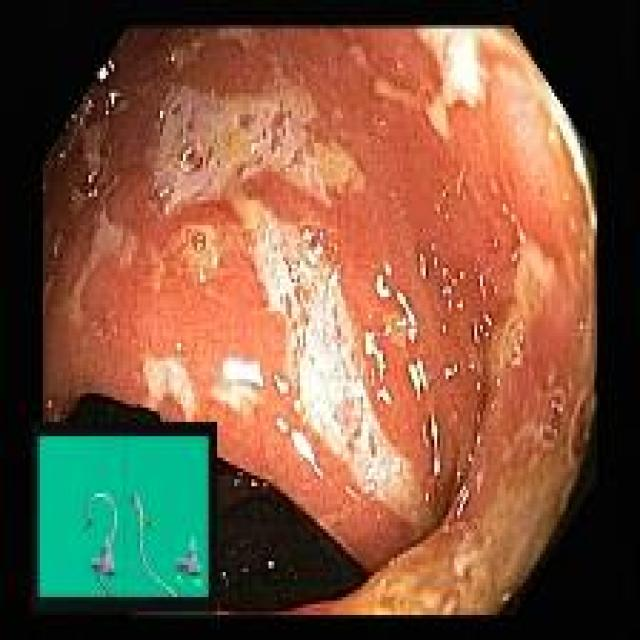ulcerative-colitis: (42, 28, 596, 615)
